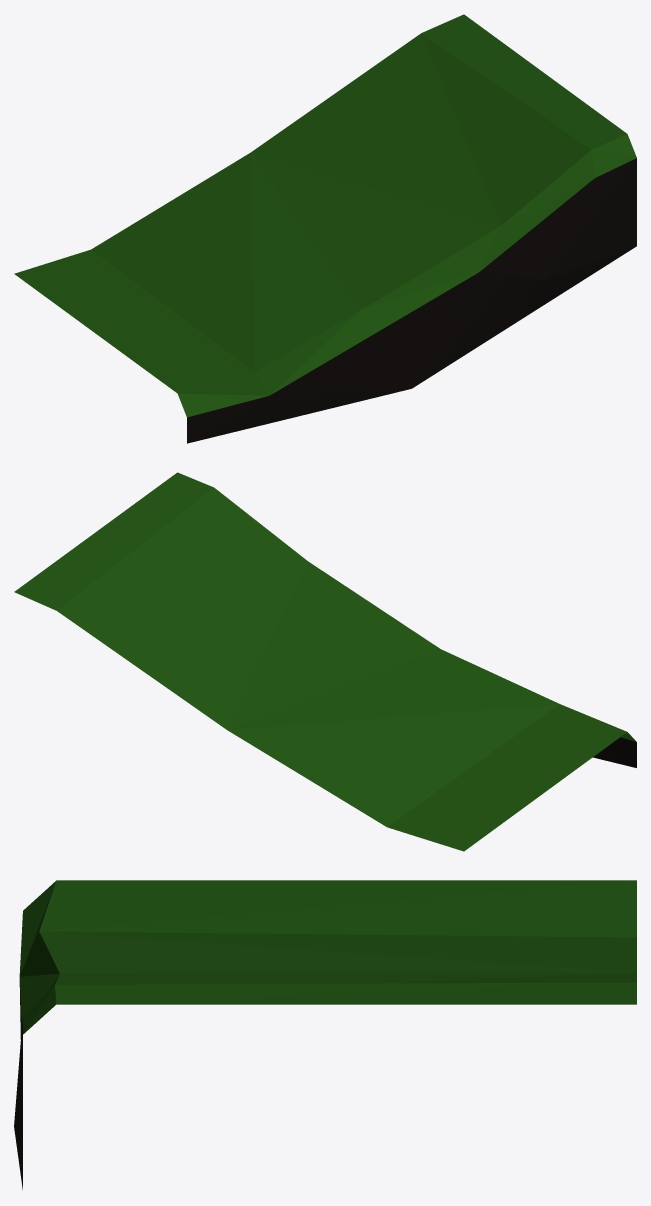
File: 2D_Island_Top_2up.fbx
3 renders of one model, top to bottom at view 1: azimuth 30°, elevation 25°; view 2: azimuth 150°, elevation 25°; view 3: azimuth 270°, elevation 25°, orthographic. The views are drawn at different scales.
Parts seen in each view (by area): view 1: 2D_Island_Top_2up; view 2: 2D_Island_Top_2up; view 3: 2D_Island_Top_2up.
Part boxes in pixels (x1,y1,x2,y2): 2D_Island_Top_2up: [14, 14, 636, 443]; 2D_Island_Top_2up: [14, 472, 636, 851]; 2D_Island_Top_2up: [14, 880, 636, 1189].
Bounding box in the file's own units: 1303 × 534 × 880.
